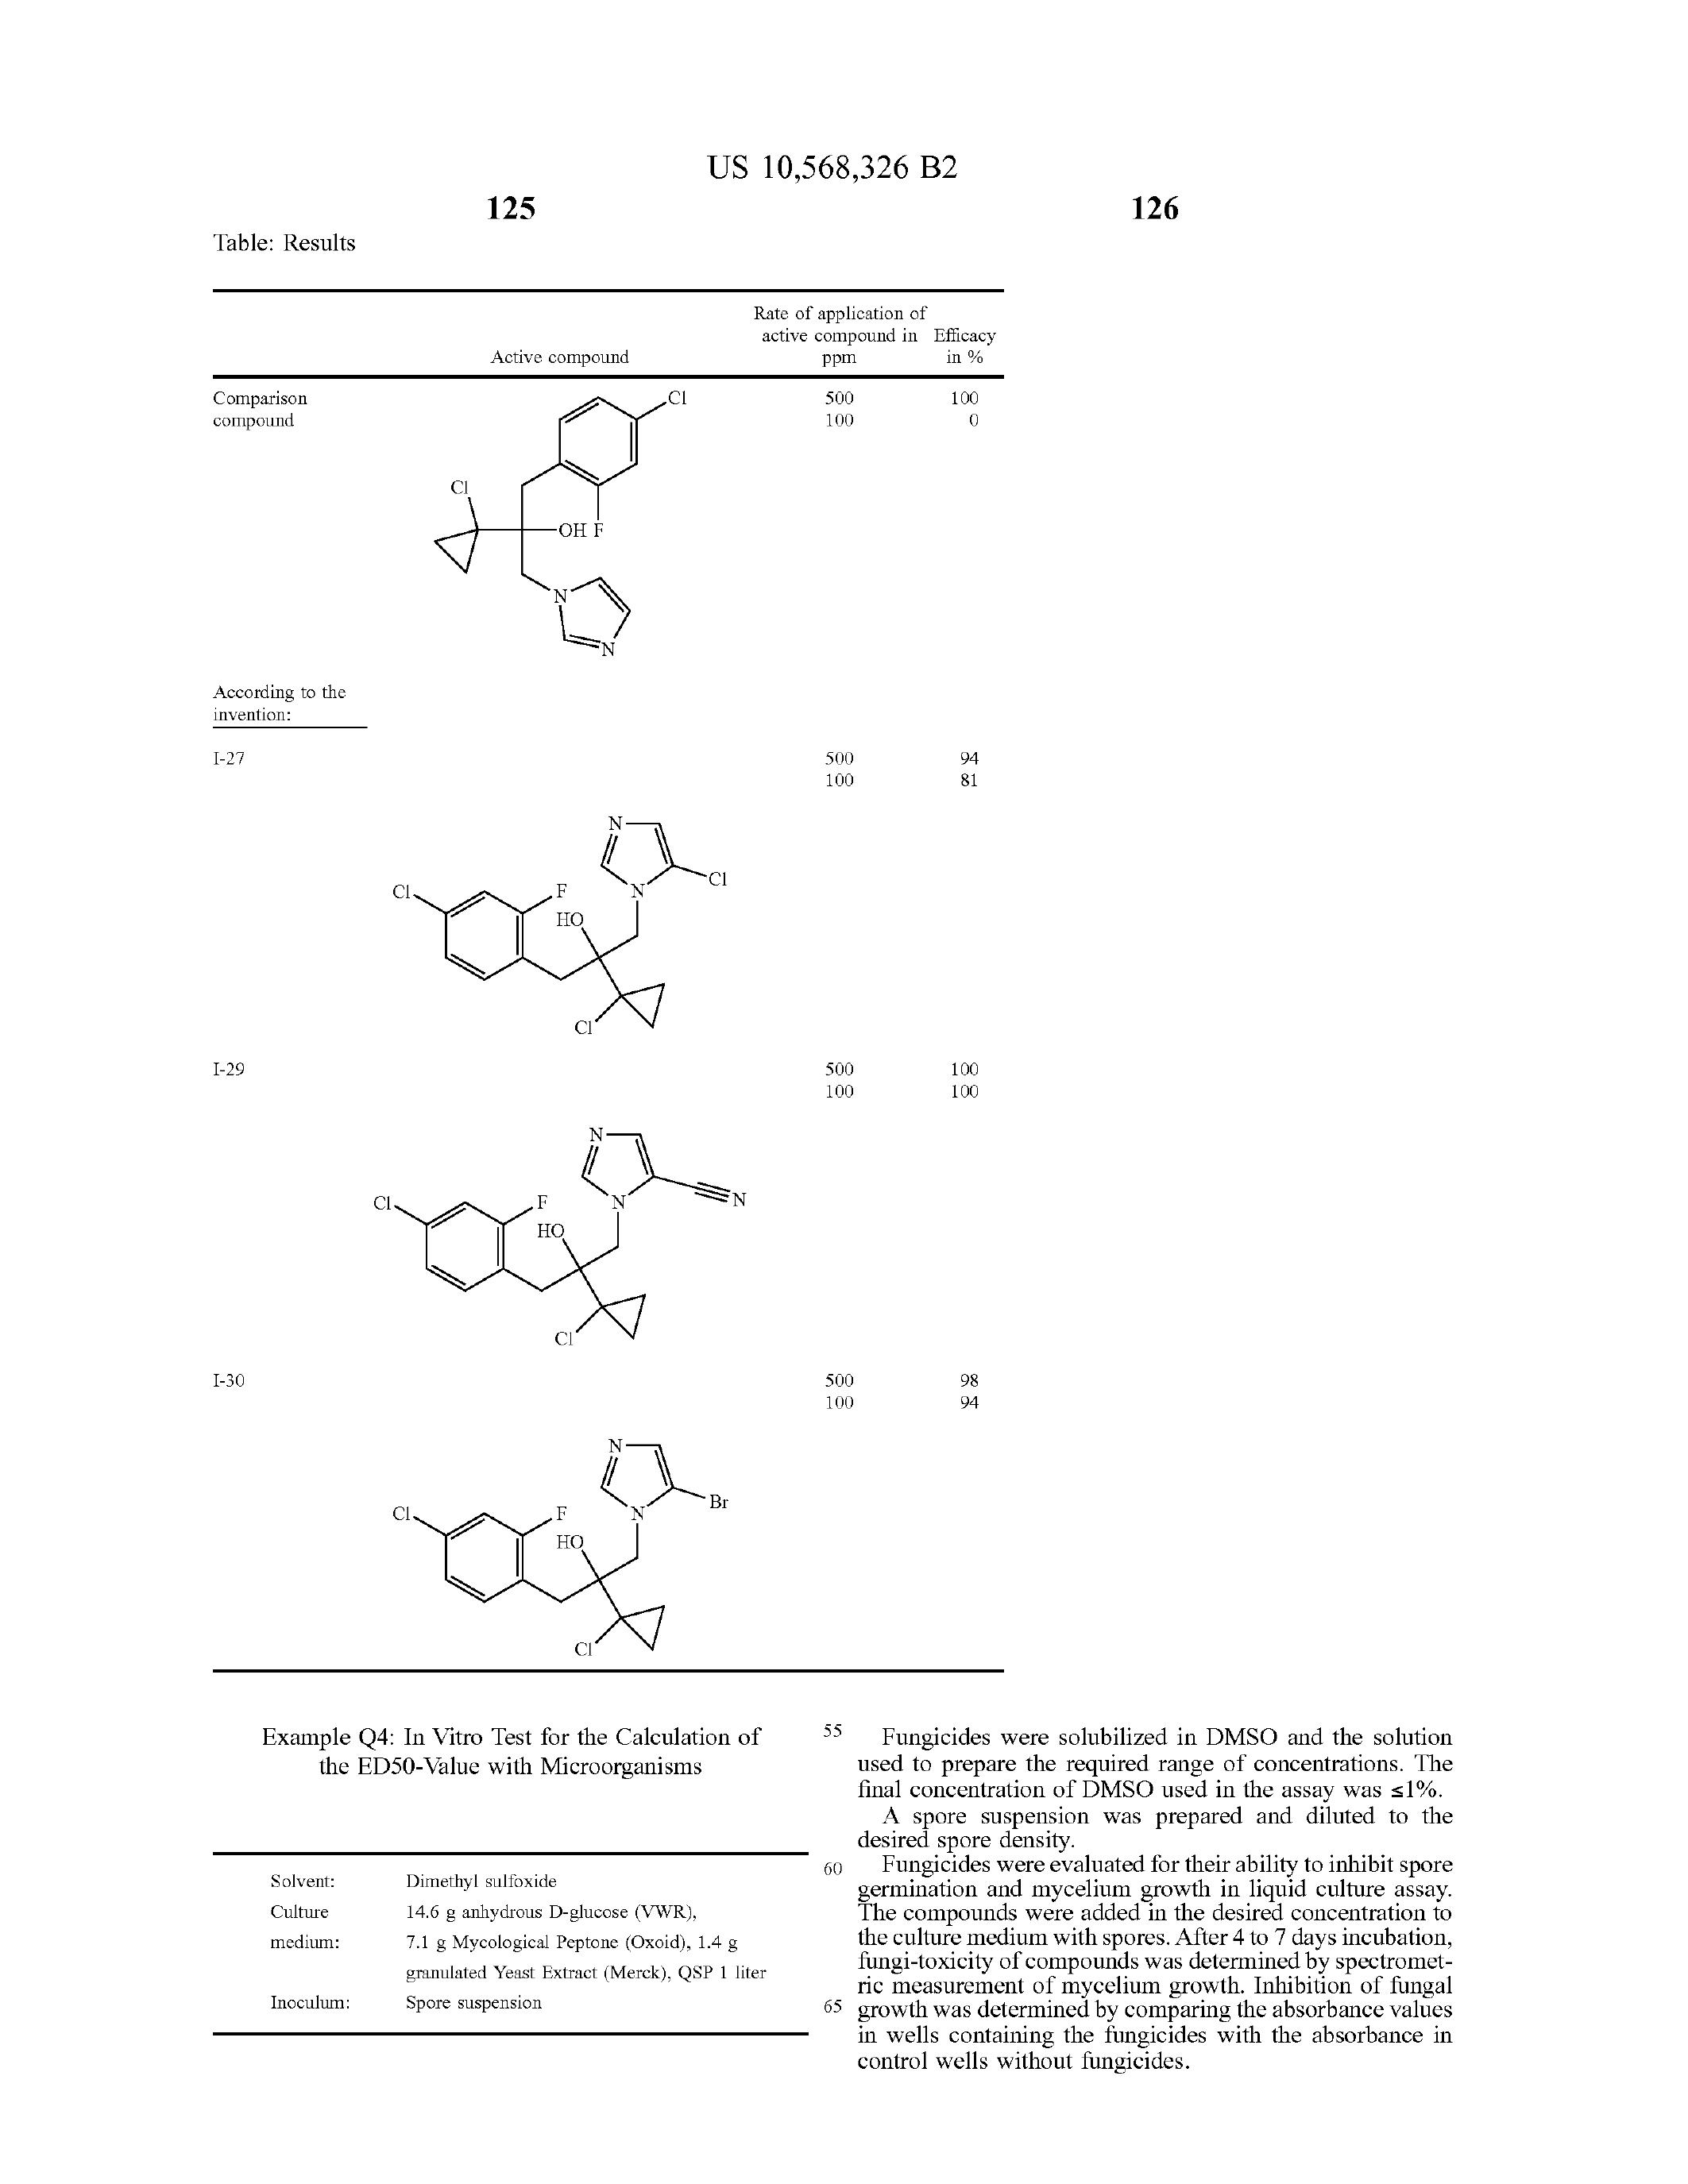relevant-structures: (328, 1053, 824, 1393), (410, 394, 729, 746), (358, 1445, 817, 1656), (365, 810, 770, 1018)
